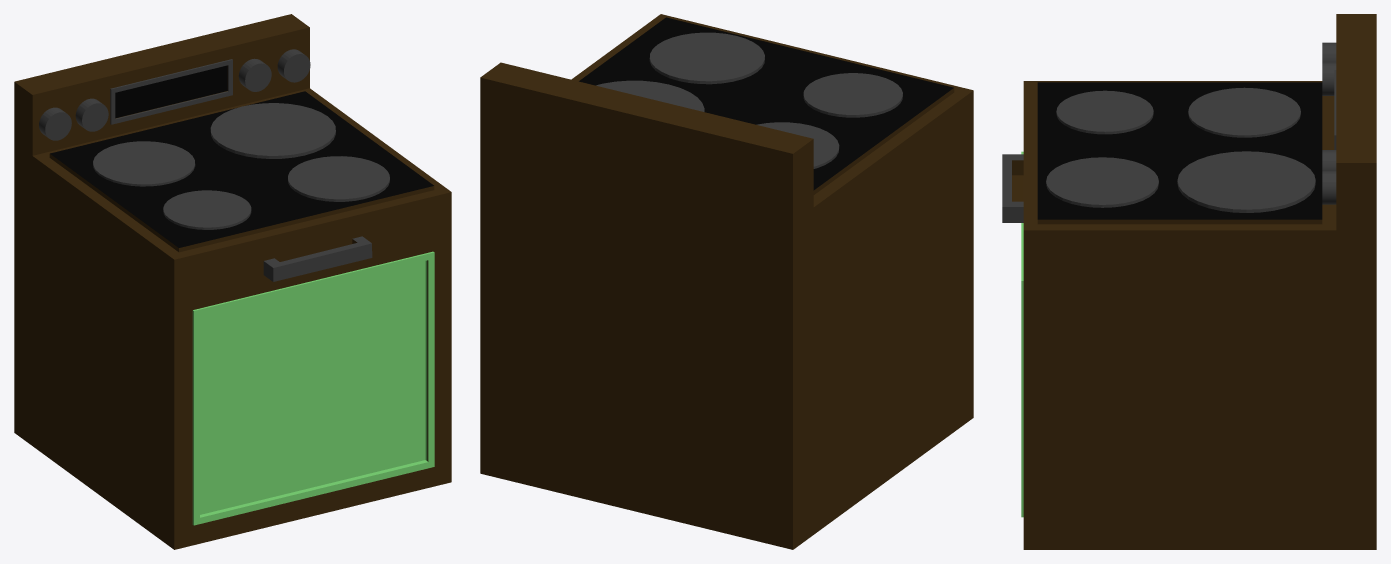
Rendered from fornuis c.fbx.
The picture shows the model from 3 angles, left to right: view 1: azimuth 30°, elevation 25°; view 2: azimuth 150°, elevation 25°; view 3: azimuth 270°, elevation 25°; orthographic projection. The views are drawn at different scales.
Visible parts, largest first — view 1: Cylinder.002; view 2: Cylinder.002; view 3: Cylinder.002.
Part boxes in pixels (x1,y1,x2,y2): Cylinder.002: (14,14,451,549); Cylinder.002: (480,14,973,549); Cylinder.002: (1002,14,1376,549).
Size of the model in its own units: 100 by 121 by 106.
